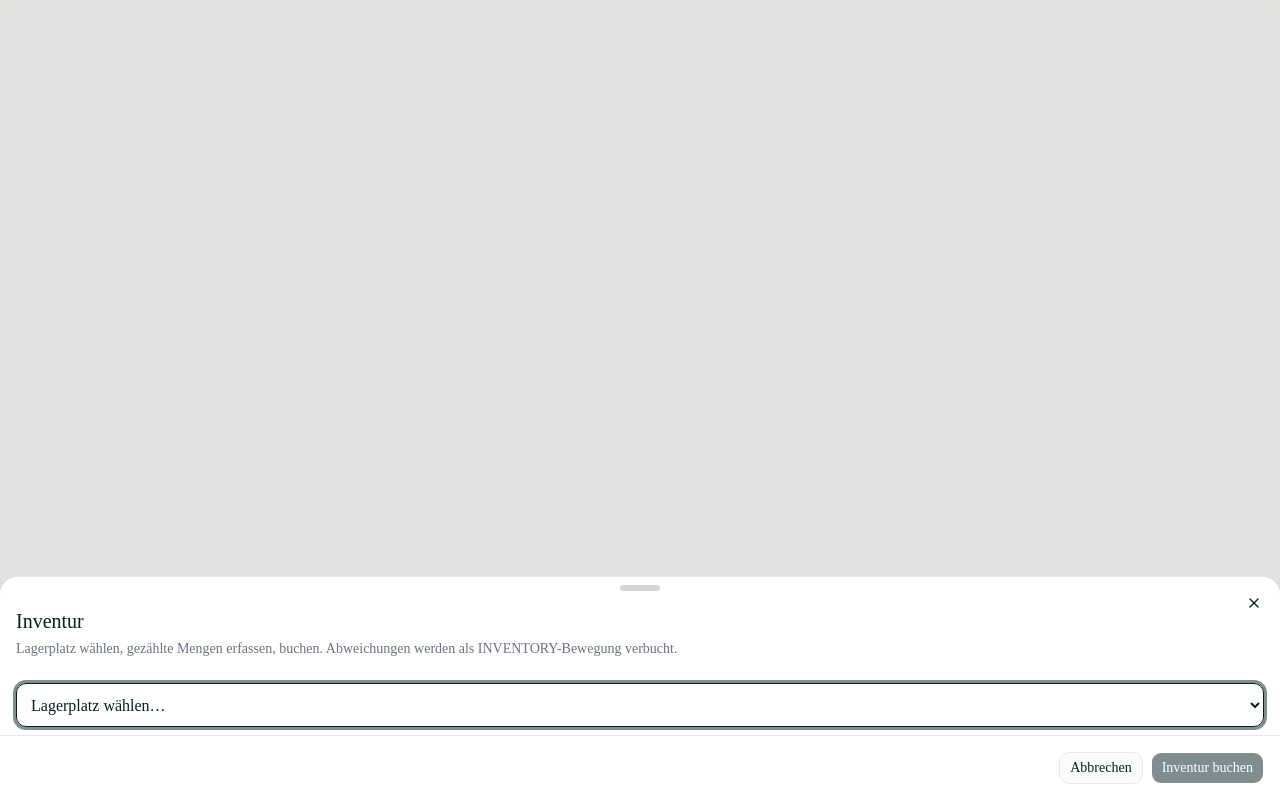
Scenario: InventoryModal (T17d) › mobil: Zeilen-Karten mit großem Zähl-Input (inputMode numeric)
Select "A-01 — Regal A" in the dropdown at (640, 705), box 16,683 -> 1264,727
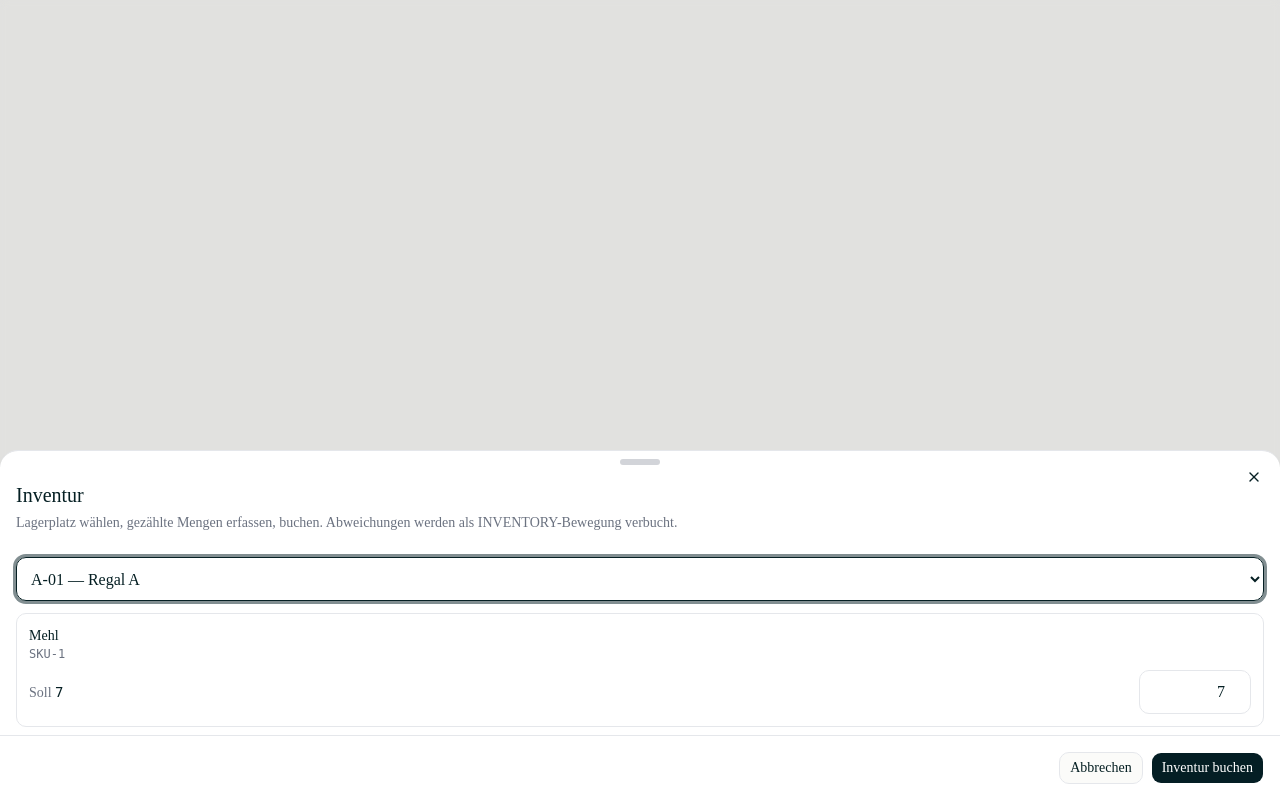
Expected: the list with test id "inventory-cards" is shown, 16,613 -> 1264,727
